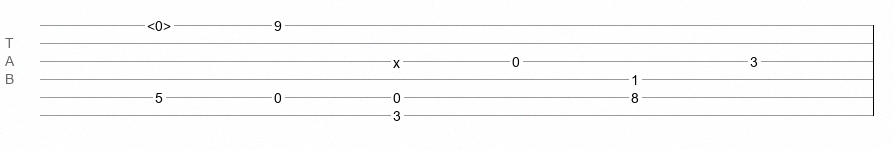0: (274, 90, 282, 100), (393, 90, 401, 100), (512, 54, 520, 64)
1: (631, 72, 639, 82)
3: (393, 108, 401, 118), (750, 54, 758, 64)
5: (155, 90, 163, 100)
8: (631, 90, 639, 100)
9: (274, 18, 282, 28)
harmonic: (147, 18, 171, 28)
x: (393, 55, 400, 63)
